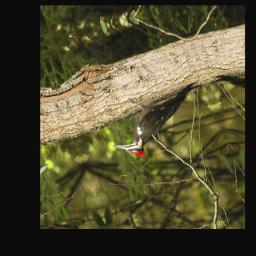Woodpecker: (97, 76, 219, 165)
